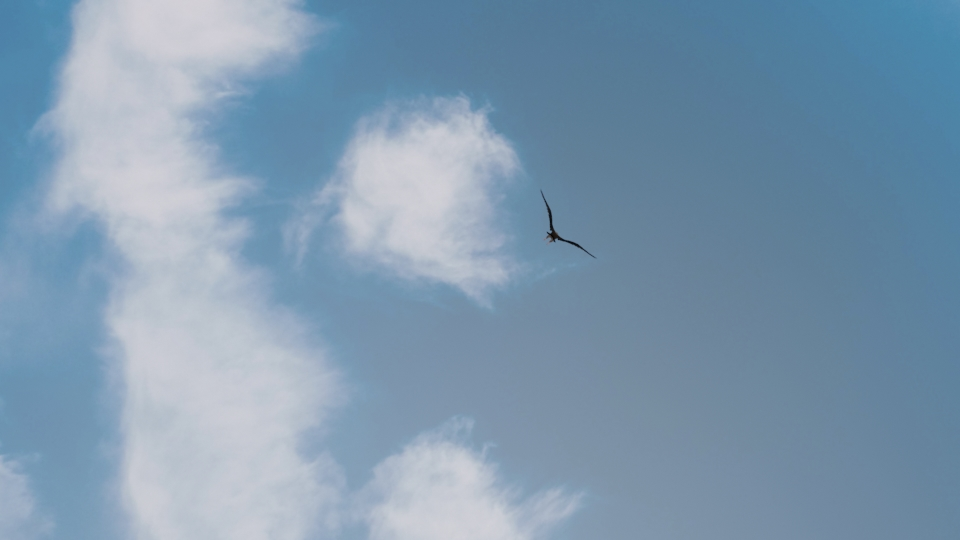bird: (537, 190, 595, 255)
